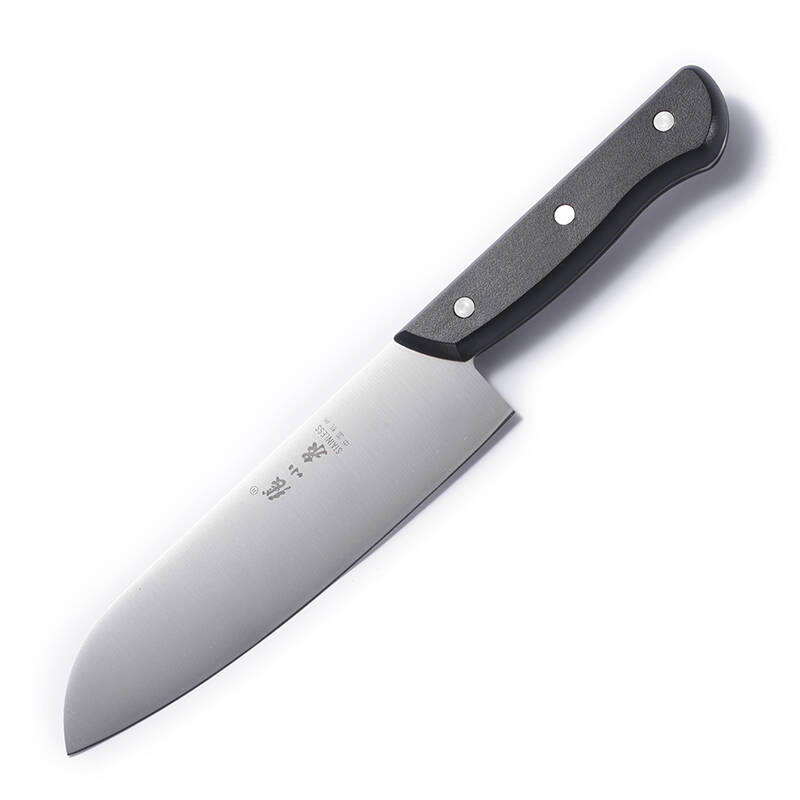knief: (34, 62, 760, 770)
